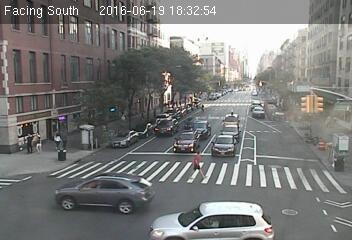neg: (271, 132, 294, 162), (225, 124, 241, 146), (299, 132, 315, 153), (226, 107, 240, 125), (255, 101, 267, 117)
pos: (184, 147, 211, 183), (18, 129, 39, 156), (32, 131, 49, 154)
